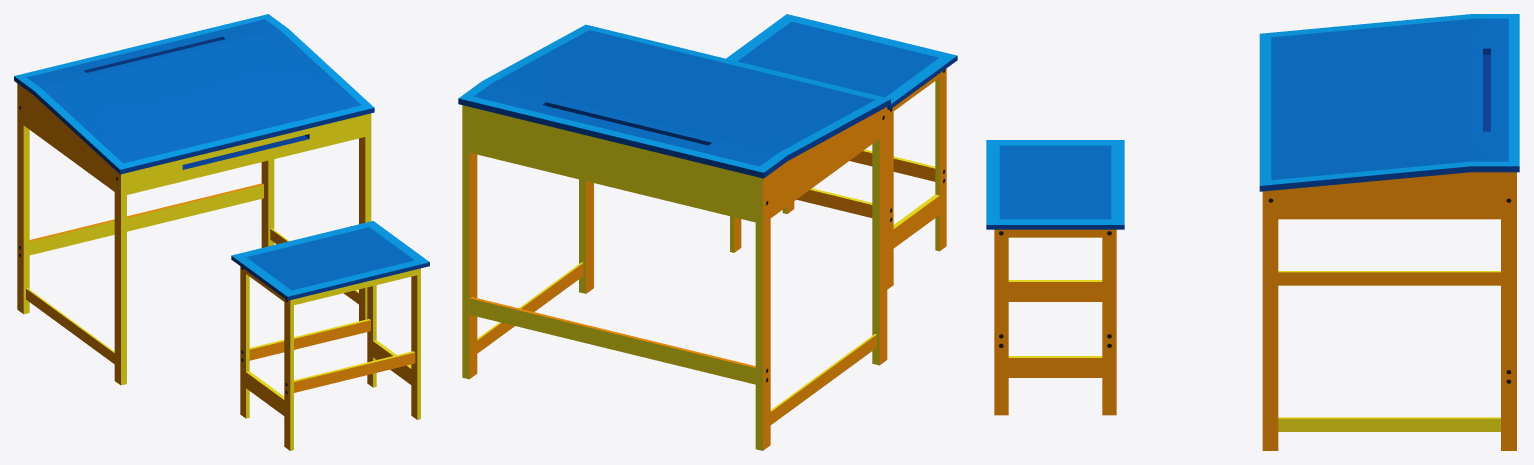
Rendered from Studant Table Chair LEVEL-3-3.fbx.
3 views of the same model, side by side, from view 1: azimuth 30°, elevation 25°; view 2: azimuth 150°, elevation 25°; view 3: azimuth 270°, elevation 25° (orthographic). The views are drawn at different scales.
Visible parts, largest first — view 1: Studant Table Chair LEVEL-3-3; view 2: Studant Table Chair LEVEL-3-3; view 3: Studant Table Chair LEVEL-3-3.
Part boxes in pixels (left/top/right/bottom): Studant Table Chair LEVEL-3-3: left=14, top=14, right=429, bottom=450; Studant Table Chair LEVEL-3-3: left=458, top=14, right=957, bottom=450; Studant Table Chair LEVEL-3-3: left=986, top=14, right=1519, bottom=450.
Bounding box in the file's own units: 7.27 × 6.36 × 10.76.
